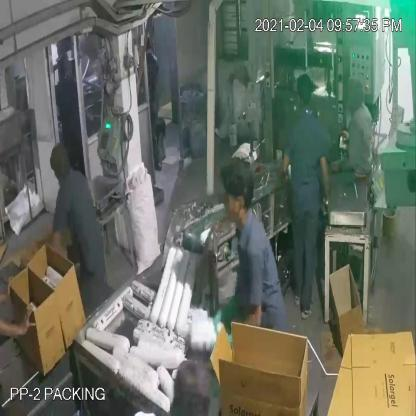glove: (203, 281, 249, 333)
no_glove: (0, 304, 42, 356), (0, 274, 23, 319)
